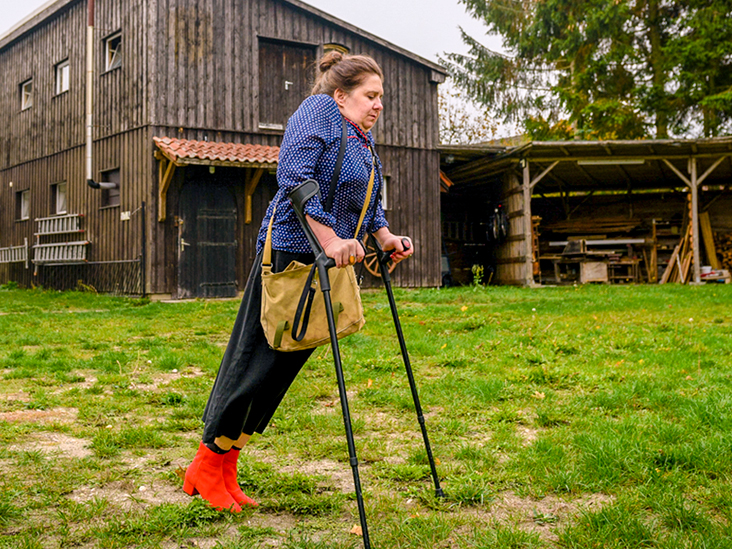crutches: (180, 50, 443, 549)
